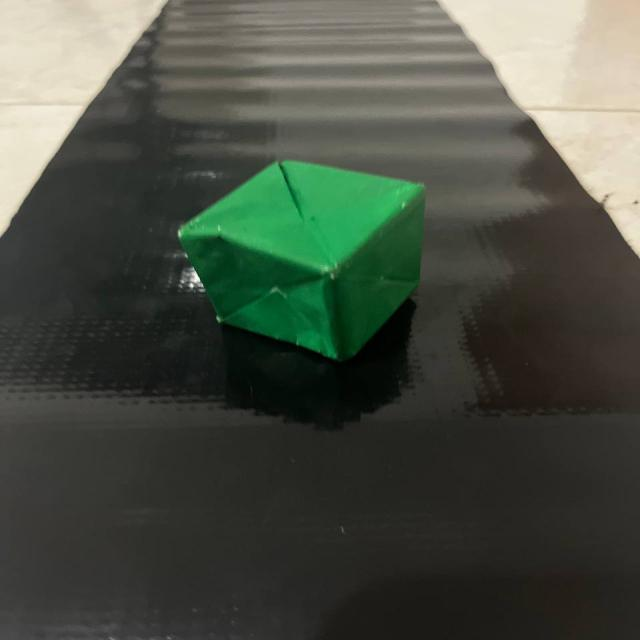Verde: (165, 150, 446, 370)
